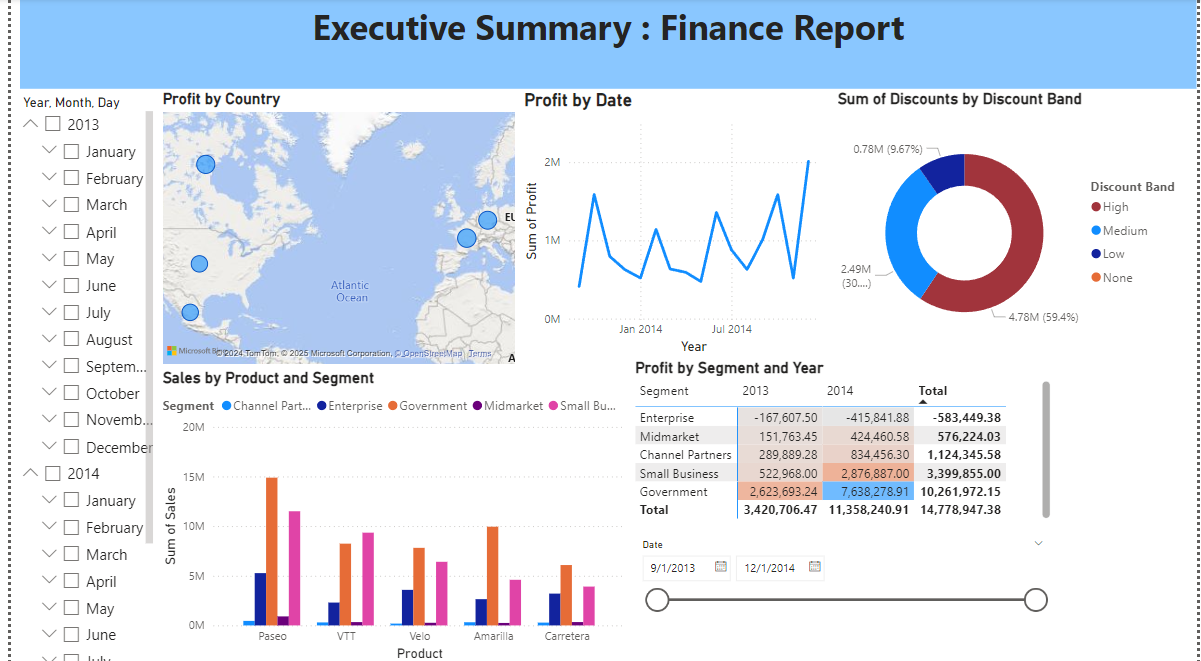

The dashboard page shown, as its layout file describes it:
{"tool":"powerbi","page":{"name":"Page 1","canvas":[1280,720],"ordinal":0},"visuals":[{"type":"textbox","box":[9.4,0,1269.9,98.3],"z":0},{"type":"lineChart","title":"Profit by Date","fields":{"Category":["Calendar.Date.Variation.Date Hierarchy.Year","Calendar.Date.Variation.Date Hierarchy.Quarter","Calendar.Date.Variation.Date Hierarchy.Month"],"Y":["Sum(financials.Profit)"]},"box":[548.6,98.6,338.6,290],"z":1000},{"type":"map","title":"Profit by Country","fields":{"Category":["financials.Country"],"Size":["Sum(financials.Profit)"]},"box":[158.6,98.6,390,301.4],"z":2000},{"type":"slicer","fields":{"Values":["Calendar.Date.Variation.Date Hierarchy.Year","Calendar.Date.Variation.Date Hierarchy.Month","Calendar.Date.Variation.Date Hierarchy.Day"]},"box":[0,98.6,158.6,621.4],"z":3000},{"type":"slicer","fields":{"Values":["financials.Date"]},"box":[668.7,578.1,458.2,93.9],"z":4000},{"type":"pivotTable","title":"Profit by Segment and Year","fields":{"Rows":["financials.Segment"],"Values":["Sum(financials.Profit)"],"Columns":["financials.Year"]},"box":[668.7,388.6,458.2,178.1],"z":5000},{"type":"clusteredColumnChart","title":"Sales by Product and Segment","fields":{"Category":["financials.Product"],"Y":["Sum(financials. Sales)"],"Series":["financials.Segment"]},"box":[158.6,400,510,320],"z":6000},{"type":"donutChart","fields":{"Category":["financials.Discount Band"],"Y":["Sum(financials.Discounts)"]},"box":[888,99,391,290],"z":7000}]}

Visuals, with their boxes in screenshot pixels (x1, y1, x2, y2), scaled from the page's 1280x720 canvas onto the 1201x661 screenshot:
textbox: left=9, top=0, right=1200, bottom=90
"Profit by Date" lineChart: left=515, top=91, right=832, bottom=357
"Profit by Country" map: left=149, top=91, right=515, bottom=367
slicer - Calendar.Date.Variation.Date Hierarchy.Year x Calendar.Date.Variation.Date Hierarchy.Month: left=0, top=91, right=149, bottom=660
slicer - financials.Date: left=627, top=531, right=1057, bottom=617
"Profit by Segment and Year" pivotTable: left=627, top=357, right=1057, bottom=520
"Sales by Product and Segment" clusteredColumnChart: left=149, top=367, right=627, bottom=660
donutChart - financials.Discount Band x Sum(financials.Discounts): left=833, top=91, right=1200, bottom=357
